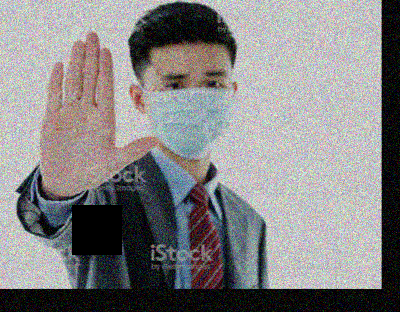with_mask: (144, 64, 232, 161)
